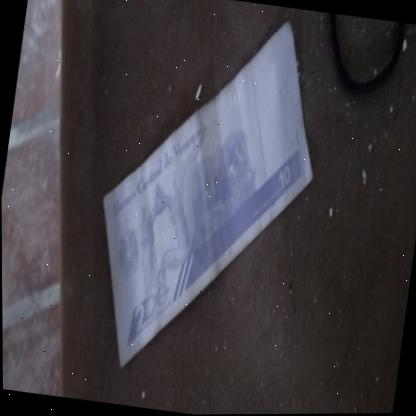ten-back-vef: (76, 1, 335, 391)
